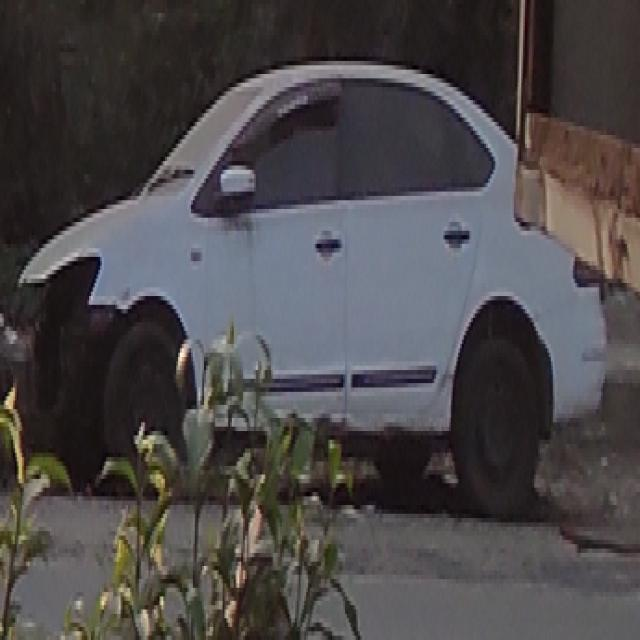car: (8, 52, 612, 514)
